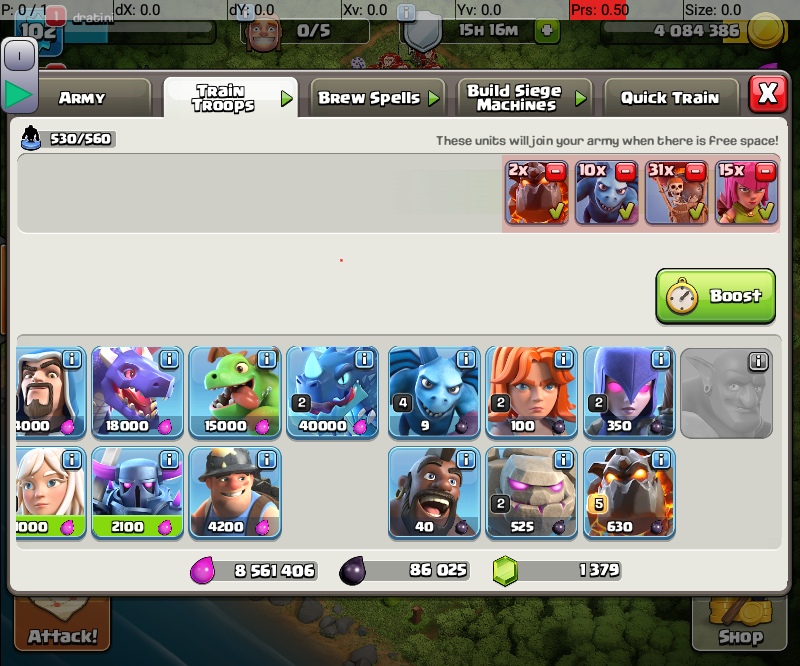archer: (718, 162, 778, 227)
babydragon: (190, 349, 279, 437)
bowler: (682, 350, 772, 438)
dragon: (94, 348, 183, 437)
electro: (287, 347, 378, 440)
golem: (490, 449, 577, 537)
healer: (15, 449, 83, 513)
hog: (393, 449, 480, 537)
lava: (587, 449, 674, 537), (506, 161, 569, 225)
loon: (647, 162, 710, 224)
miner: (190, 448, 276, 536)
minion: (389, 346, 480, 437), (579, 163, 643, 225)
pekka: (93, 448, 180, 515)
valk: (488, 347, 578, 437)
witch: (586, 350, 678, 438)
wizard: (18, 349, 83, 437)
